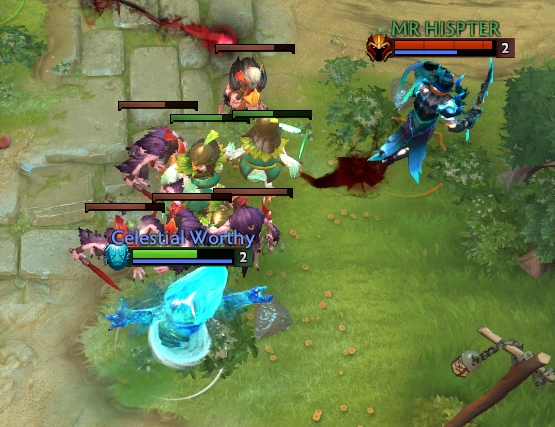allyCreep: (163, 110, 253, 127), (229, 108, 317, 121)
enemyCreep: (207, 41, 299, 58), (113, 98, 202, 113), (208, 186, 297, 200), (82, 200, 167, 214), (147, 191, 235, 203)
